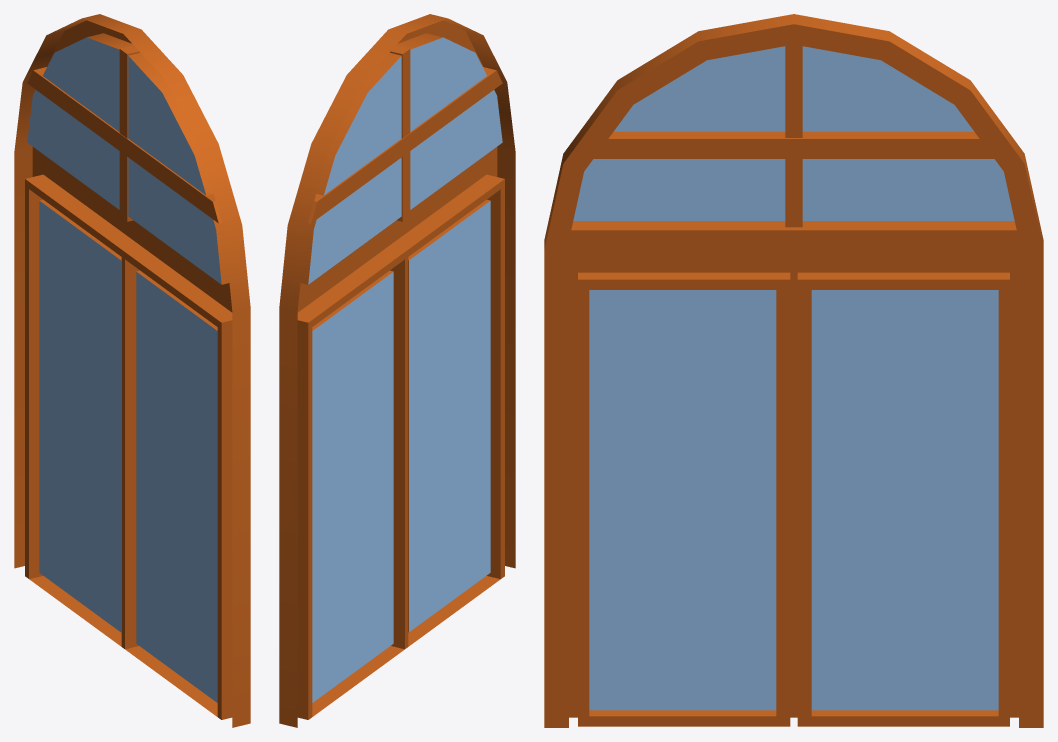
The model's file is P_Door_05.dae.
The picture shows the model from 3 angles, left to right: view 1: azimuth 30°, elevation 25°; view 2: azimuth 150°, elevation 25°; view 3: azimuth 270°, elevation 25°; orthographic projection. The views are drawn at different scales.
Parts seen in each view (by area): view 1: Door_05; view 2: Door_05; view 3: Door_05.
Part boxes in pixels (x1=…): Door_05: x1=14, y1=14, x2=250, y2=727; Door_05: x1=279, y1=14, x2=515, y2=727; Door_05: x1=544, y1=14, x2=1043, y2=727.
Bounding box in the file's own units: 0.1121 × 2.27 × 3.54.
